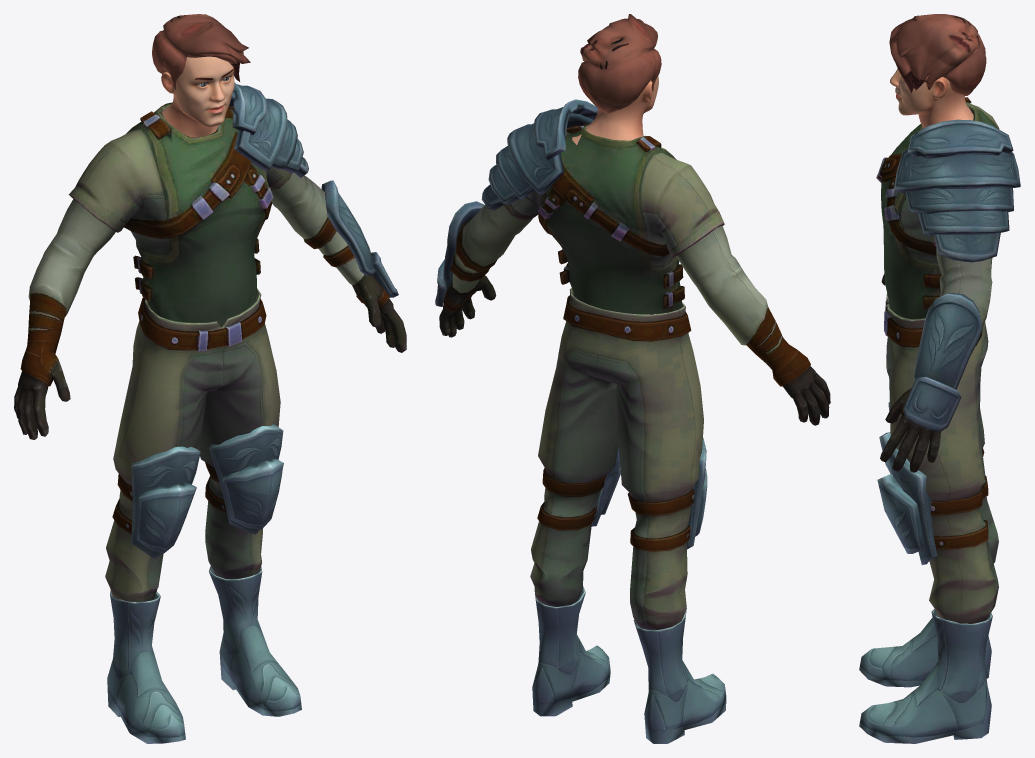
File: Muscular_Character_Costume_2.glb
3 renders of one model, left to right at view 1: azimuth 30°, elevation 25°; view 2: azimuth 150°, elevation 25°; view 3: azimuth 270°, elevation 25°, orthographic.
Parts seen in each view (by area): view 1: Wolf3D_Outfit_Top.002, Wolf3D_Outfit_Top, Wolf3D_Outfit_Top.003, Head.005, Head.006; view 2: Wolf3D_Outfit_Top.002, Wolf3D_Outfit_Top, Wolf3D_Outfit_Top.003, Head.006, Head.005; view 3: Wolf3D_Outfit_Top.002, Wolf3D_Outfit_Top, Wolf3D_Outfit_Top.003, Head.006, Head.005.
Part boxes in pixels (x1,y1,x2,y2): Wolf3D_Outfit_Top.002: (14,82,406,439); Wolf3D_Outfit_Top: (105,288,283,601); Wolf3D_Outfit_Top.003: (107,566,301,743); Head.005: (161,56,234,137); Head.006: (152,14,250,90); Wolf3D_Outfit_Top.002: (435,99,830,425); Wolf3D_Outfit_Top: (530,288,707,629); Wolf3D_Outfit_Top.003: (532,586,726,743); Head.006: (578,14,661,113); Head.005: (572,76,658,144); Wolf3D_Outfit_Top.002: (876,97,1020,472); Wolf3D_Outfit_Top: (877,293,998,623); Wolf3D_Outfit_Top.003: (859,609,992,743); Head.006: (889,14,986,95); Head.005: (890,68,973,128).
Size of the model in its own units: 1.07 by 1.87 by 0.3964.
6 materials, 6 textured.
